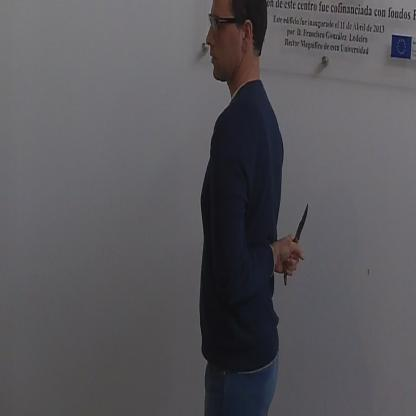knife: (279, 196, 311, 290)
